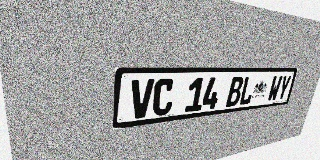1: (185, 78, 206, 112)
4: (201, 77, 222, 110)
B: (225, 76, 244, 107)
C: (152, 78, 175, 116)
L: (238, 76, 256, 105)
V: (129, 79, 154, 119)
W: (266, 75, 283, 102)
Y: (276, 75, 292, 101)
